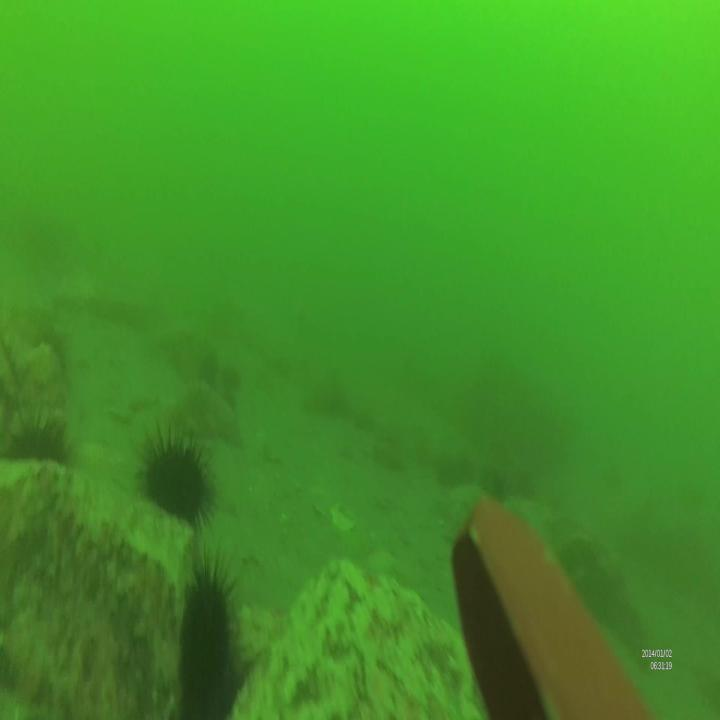echinus: (177, 559, 241, 709), (136, 425, 219, 532), (5, 405, 75, 503)
